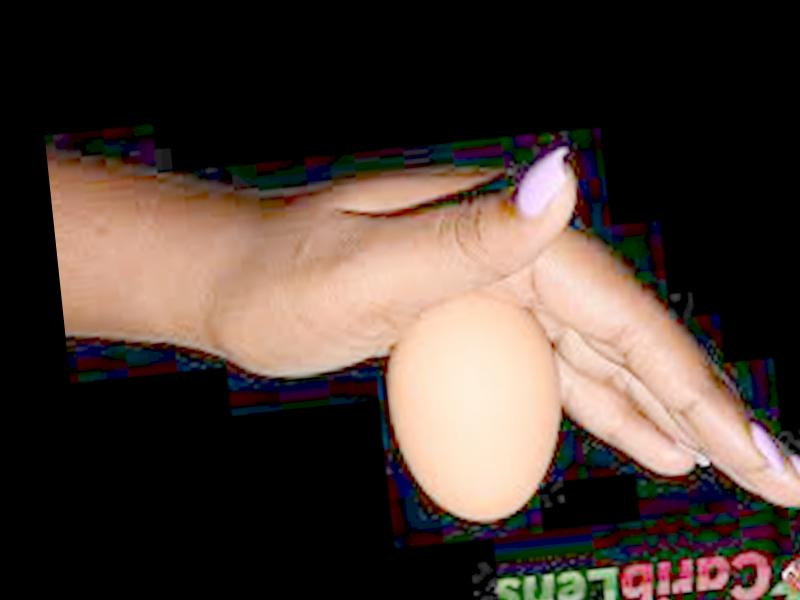Eggs: (378, 288, 574, 530)
